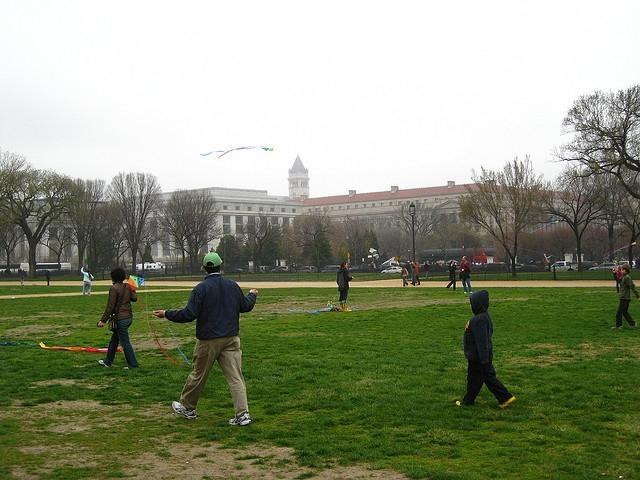bus: (36, 262, 60, 271)
car: (550, 260, 578, 272), (422, 260, 449, 271), (320, 264, 341, 274), (294, 265, 318, 273), (590, 263, 616, 270), (380, 266, 402, 273), (270, 266, 290, 273)
